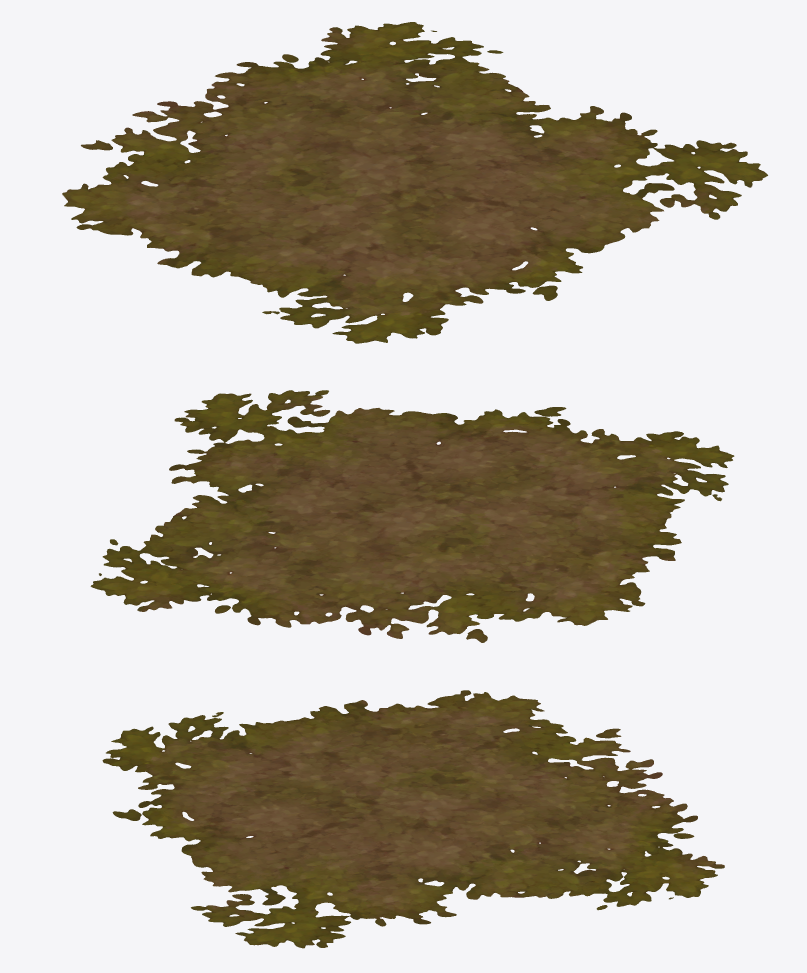
Rendered from tussock_dead_01.fbx.
3 views of the same model, one above another, from view 1: azimuth 30°, elevation 25°; view 2: azimuth 150°, elevation 25°; view 3: azimuth 270°, elevation 25° (orthographic). The views are drawn at different scales.
Parts seen in each view (by area): view 1: obj0.240; view 2: obj0.240; view 3: obj0.240.
Part boxes in pixels (x1,y1,x2,y2): obj0.240: [62, 22, 767, 343]; obj0.240: [90, 390, 734, 642]; obj0.240: [102, 690, 724, 948].
Bounding box in the file's own units: 10.92 × 0.1495 × 13.19.
